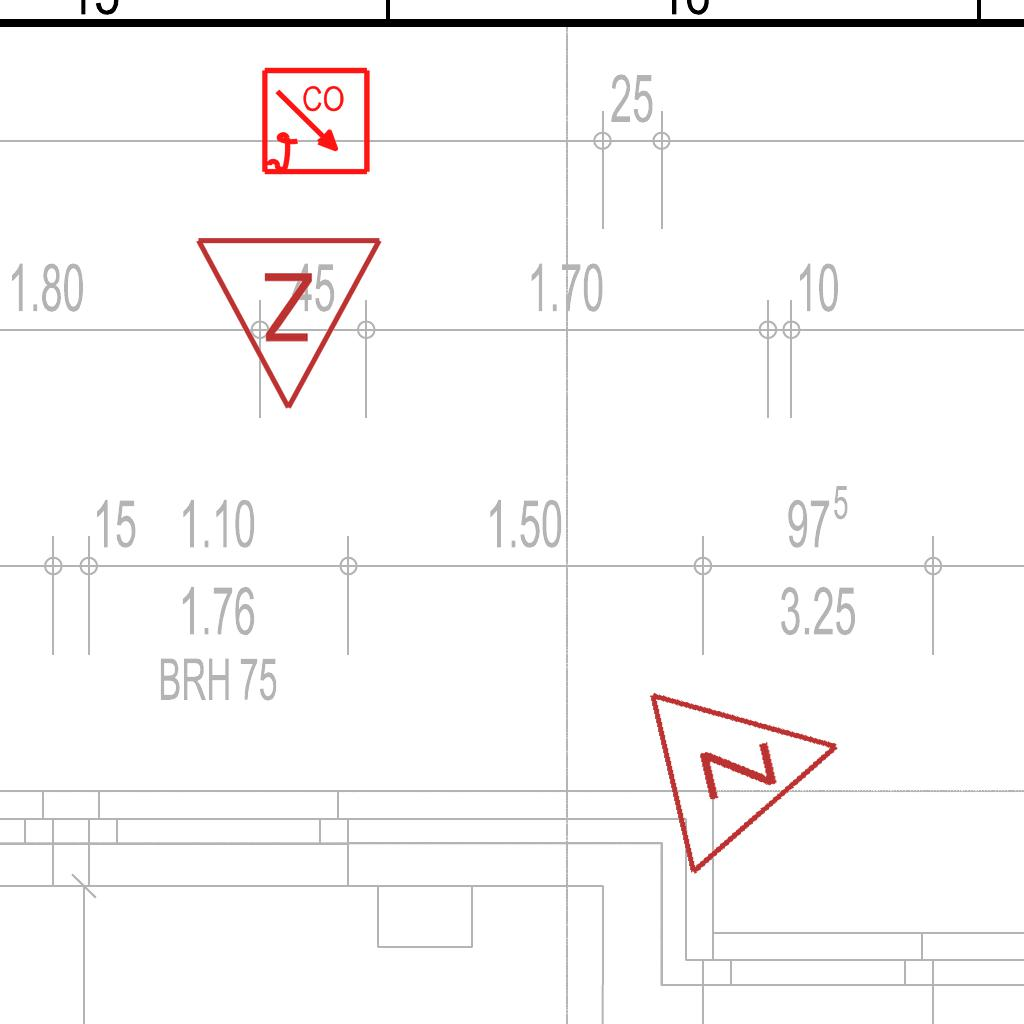ROA_Rauchmelder_optisch_mit_Signalgeber_(Sockelsirene): (260, 66, 373, 179)
Zimmersignalleuchte: (633, 645, 873, 881), (193, 223, 389, 423)
